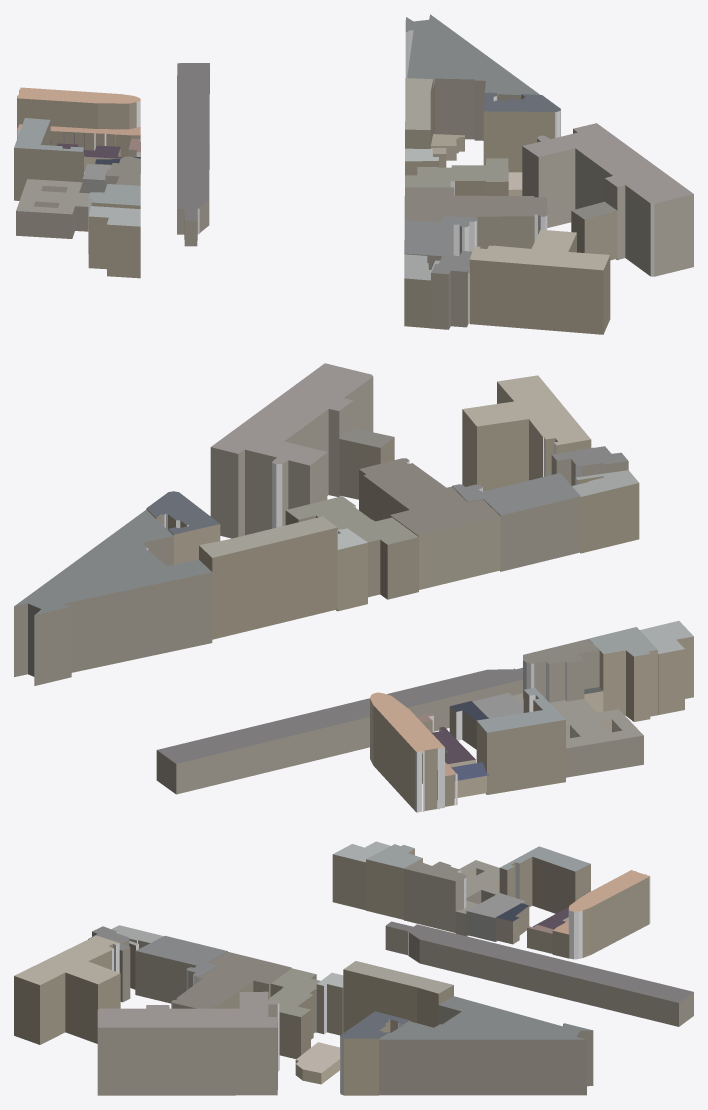
3 renders of one model, top to bottom at view 1: azimuth 30°, elevation 25°; view 2: azimuth 150°, elevation 25°; view 3: azimuth 270°, elevation 25°, orthographic. The views are drawn at different scales.
Parts seen in each view (by area): view 1: tuile; view 2: tuile; view 3: tuile.
Boxes of the visible parts, x1,y1,x2,y2 form: tuile: [14, 14, 693, 334]; tuile: [14, 363, 693, 812]; tuile: [14, 841, 693, 1095].
Size of the model in its own units: 223 by 37.17 by 299.
